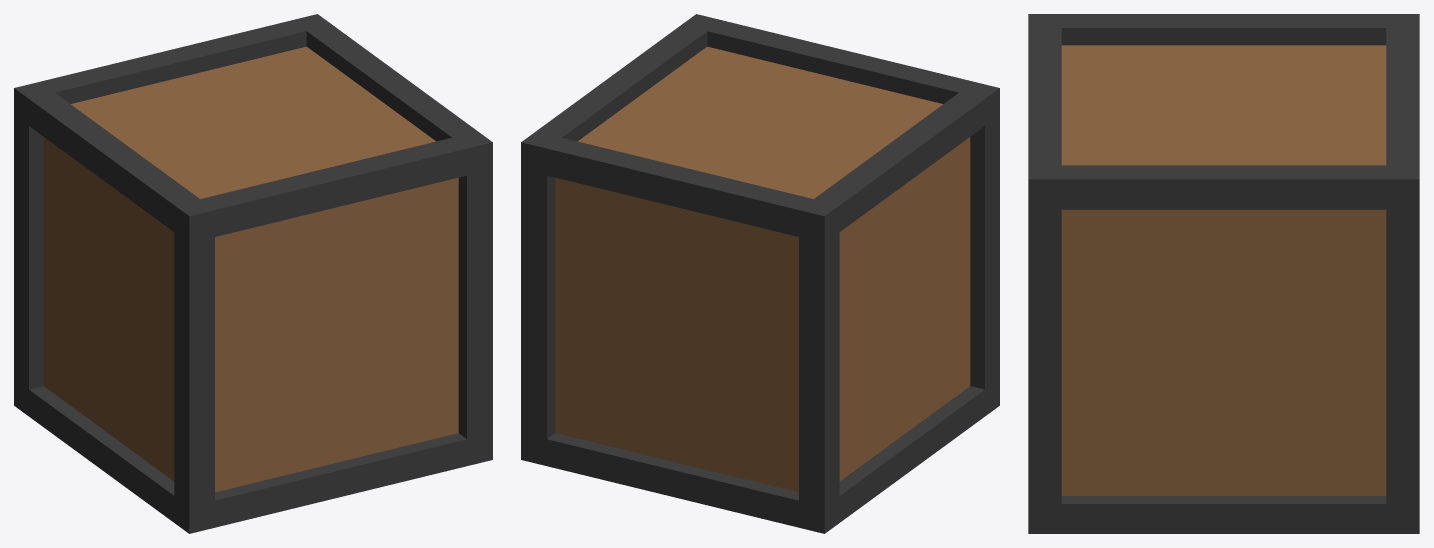
The model's file is crate.glb.
3 renders of one model, left to right at view 1: azimuth 30°, elevation 25°; view 2: azimuth 150°, elevation 25°; view 3: azimuth 270°, elevation 25°, orthographic. The views are drawn at different scales.
Visible parts, largest first — view 1: crate; view 2: crate; view 3: crate.
Boxes of the visible parts, x1=… form: crate: x1=14, y1=14, x2=492, y2=533; crate: x1=521, y1=14, x2=999, y2=533; crate: x1=1028, y1=14, x2=1419, y2=533.
Bounding box in the file's own units: 0.9354 × 0.9354 × 0.9354.
1 material, 1 textured.
